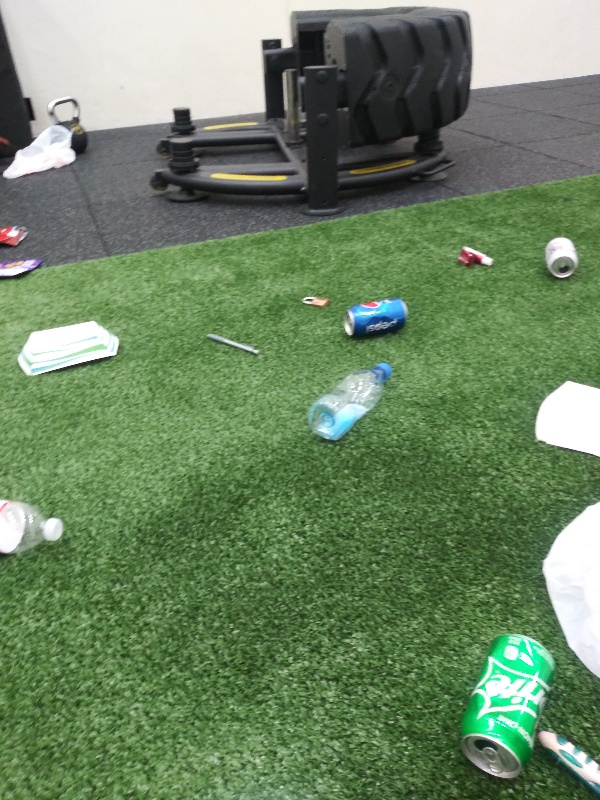bag: (1, 252, 46, 283), (1, 218, 29, 248)
bottle: (300, 358, 396, 446), (1, 495, 72, 563)
can: (454, 630, 556, 779), (339, 297, 411, 343), (537, 237, 582, 282)
plate: (14, 315, 126, 380), (529, 375, 600, 464)
